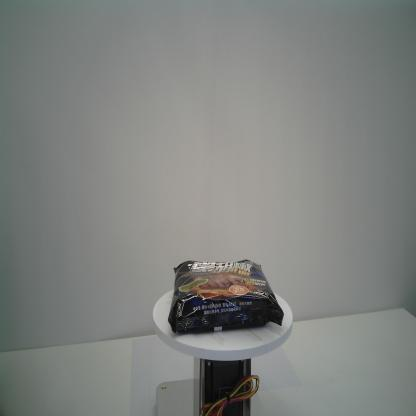Instant Noodles: (166, 258, 284, 337)
